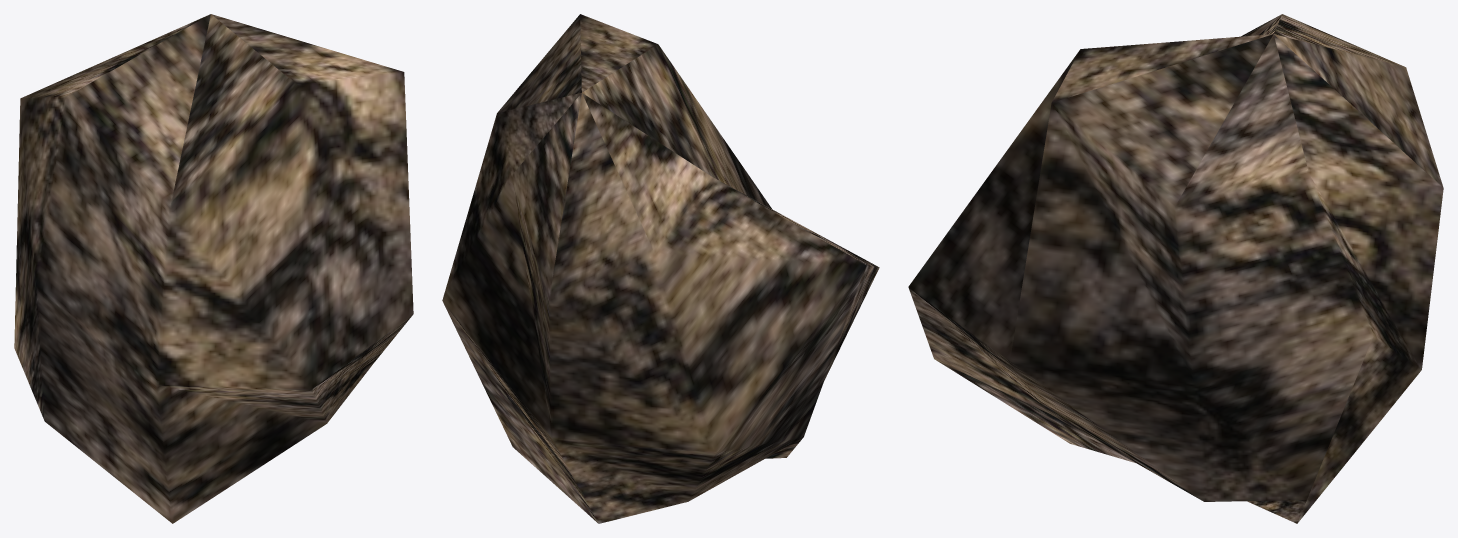
The model's file is Asteroid.fbx.
3 renders of one model, left to right at view 1: azimuth 30°, elevation 25°; view 2: azimuth 150°, elevation 25°; view 3: azimuth 270°, elevation 25°, orthographic. The views are drawn at different scales.
Visible parts, largest first — view 1: Sphere01; view 2: Sphere01; view 3: Sphere01.
Part boxes in pixels (<box>): Sphere01: <box>14,14,413,523</box>; Sphere01: <box>442,14,879,523</box>; Sphere01: <box>908,14,1443,523</box>.
Bounding box in the file's own units: 0.6193 × 0.6455 × 0.6725.
Materials: 1 (1 with a texture image).
